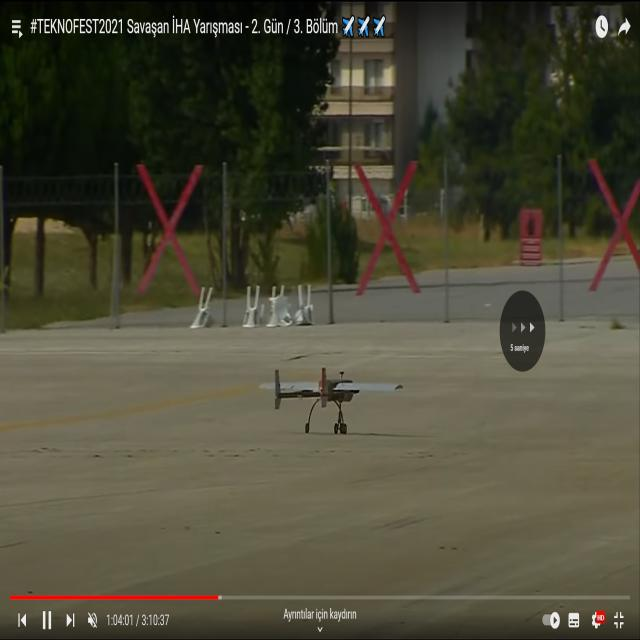iha: (253, 400, 397, 402)
